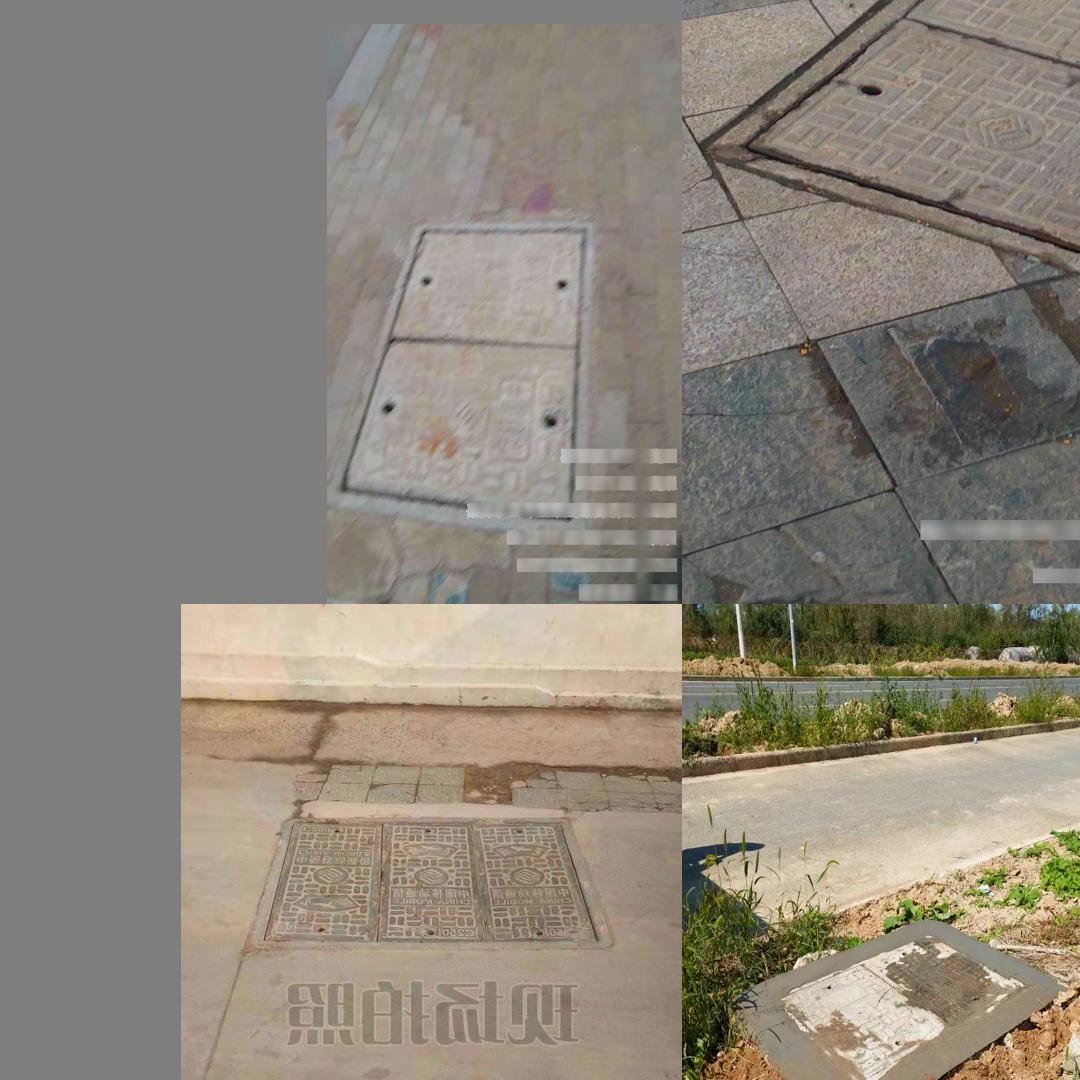good: (697, 0, 1080, 291), (327, 219, 593, 535), (251, 816, 616, 950), (775, 931, 1032, 1080)
